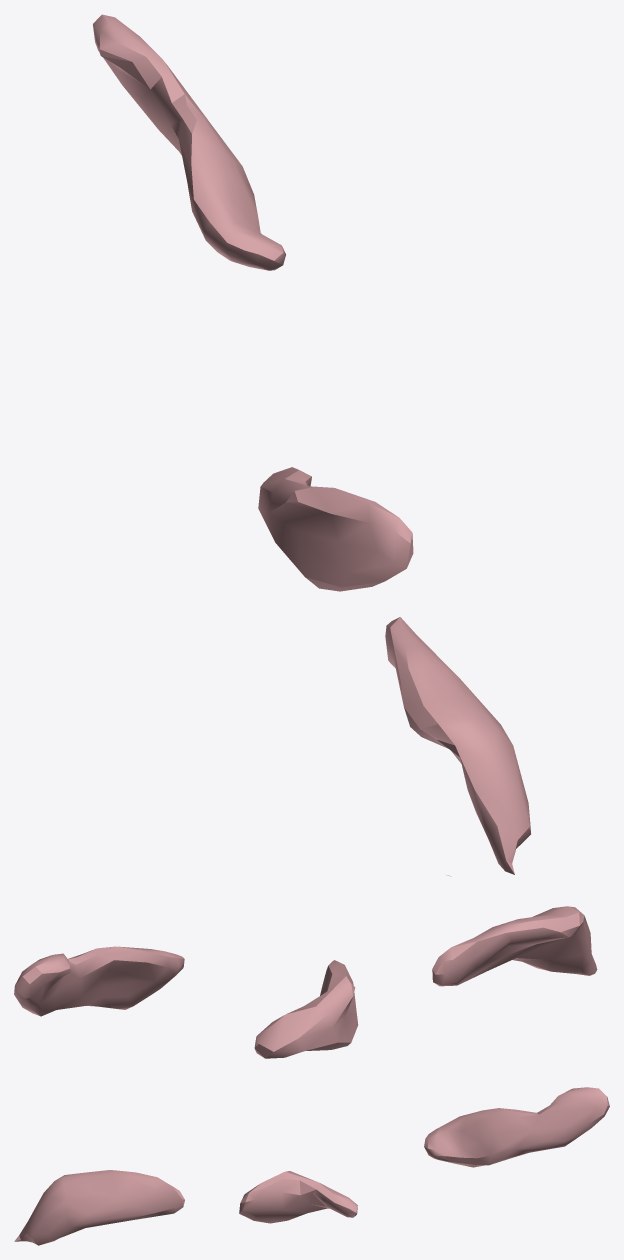
Rendered from fma275427_mm3759.glb.
3 views of the same model, one above another, from view 1: azimuth 30°, elevation 25°; view 2: azimuth 150°, elevation 25°; view 3: azimuth 270°, elevation 25° (orthographic). The views are drawn at different scales.
Visible parts, largest first — view 1: FMA275427_MM3759; view 2: FMA275427_MM3759; view 3: FMA275427_MM3759.
Part boxes in pixels (x1,y1,x2,y2): FMA275427_MM3759: (93,14,530,876); FMA275427_MM3759: (14,906,597,1058); FMA275427_MM3759: (14,1087,609,1245).
Bounding box in the file's own units: 0.0191 × 0.0277 × 0.0744.
